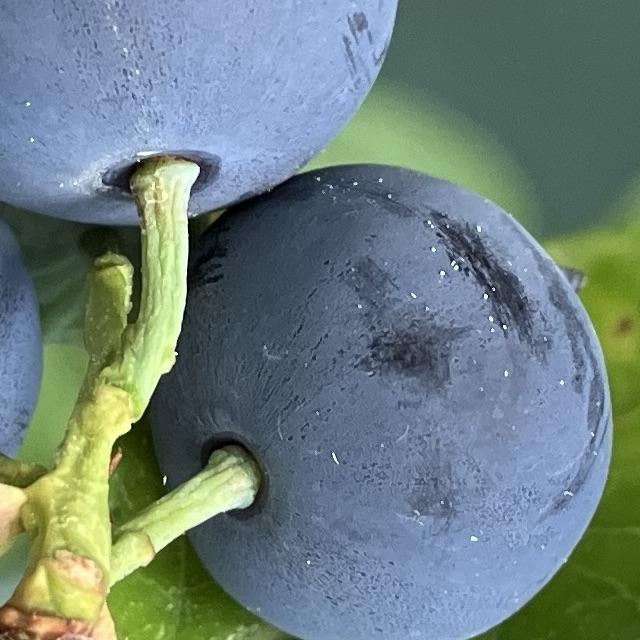Blueberries: (139, 158, 616, 640), (0, 0, 402, 228)
